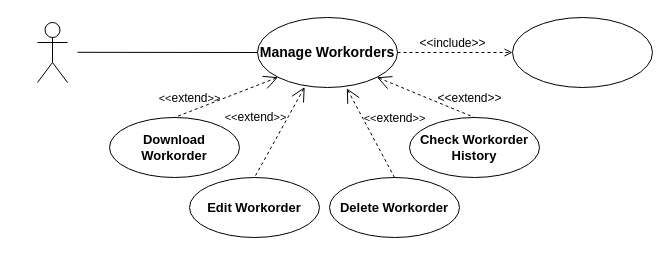
The diagram is 670 pixels wide and 255 high, and some of its shapes have lost their labels. The shapes that lost their labels are listed below. From the top down, each one's centre as x and y in pixels, then its label:
(x=52, y=52): IP Engineer
(x=582, y=52): Authenticate
